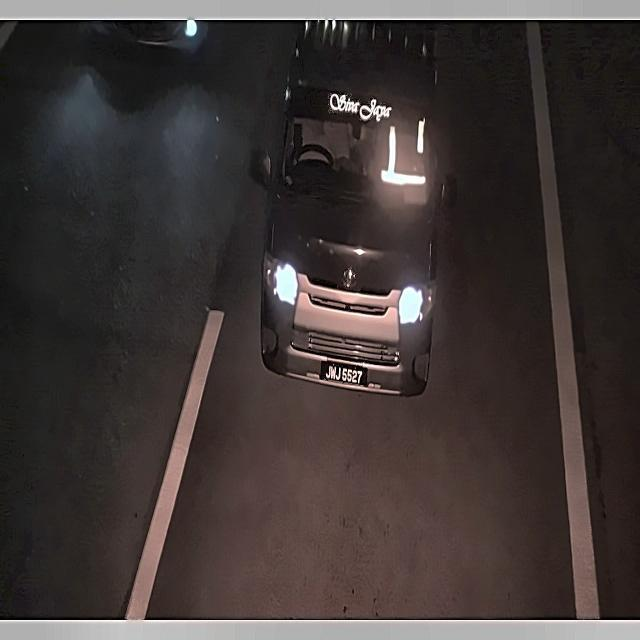car: (321, 354, 372, 393)
